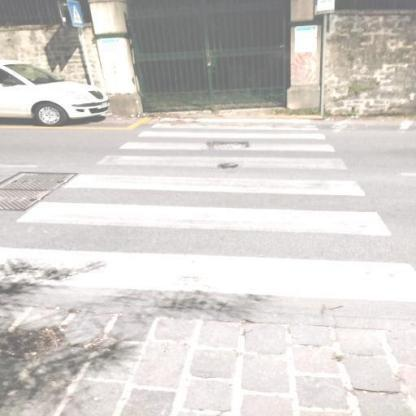crosswalk: (51, 152, 376, 198)
